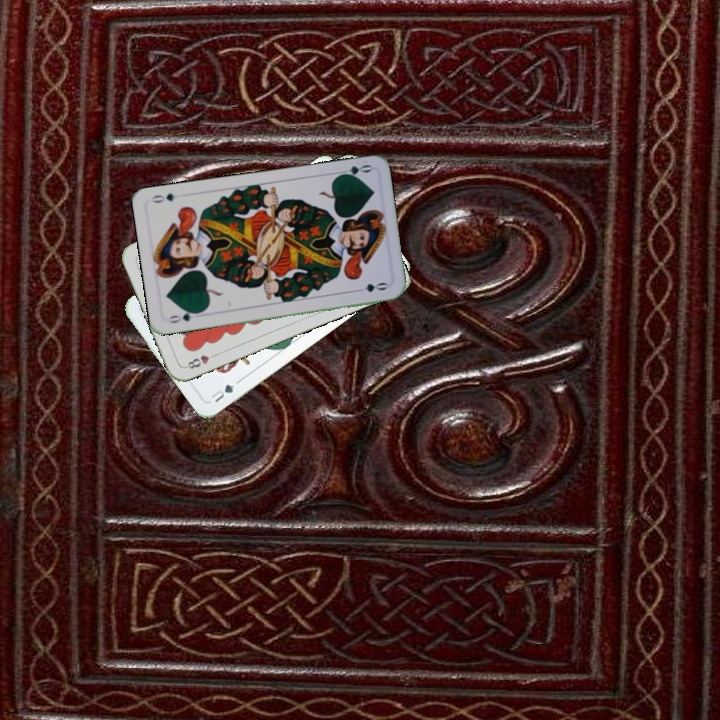GO: (333, 160, 374, 180), (164, 307, 204, 326)
GU: (207, 380, 237, 405)
H8: (181, 349, 220, 372)
